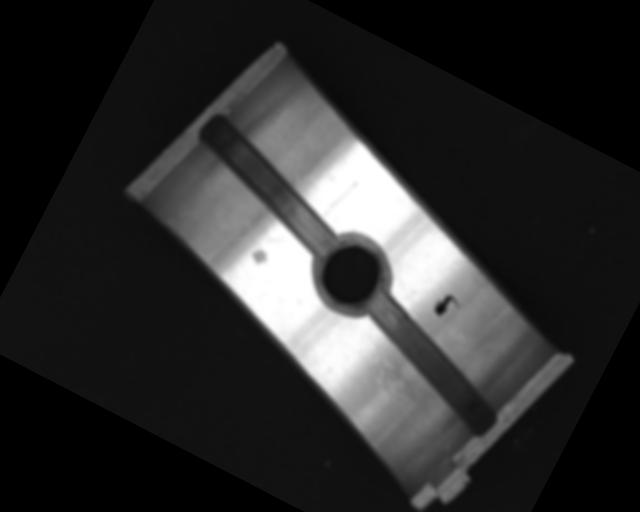blot: (430, 289, 464, 324)
bruise: (247, 245, 272, 270)
gap: (337, 289, 524, 440)
hole: (175, 111, 365, 263), (304, 224, 403, 322)
nick: (320, 174, 358, 225)
scratch: (347, 330, 452, 415)
